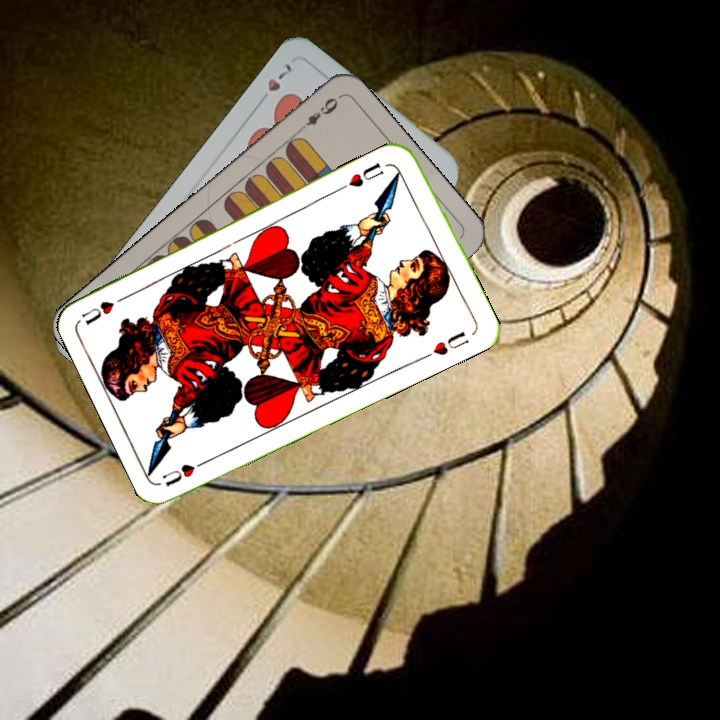E9: (294, 93, 341, 134)
H7: (263, 59, 295, 94)
HU: (159, 454, 214, 490), (344, 158, 387, 190)
